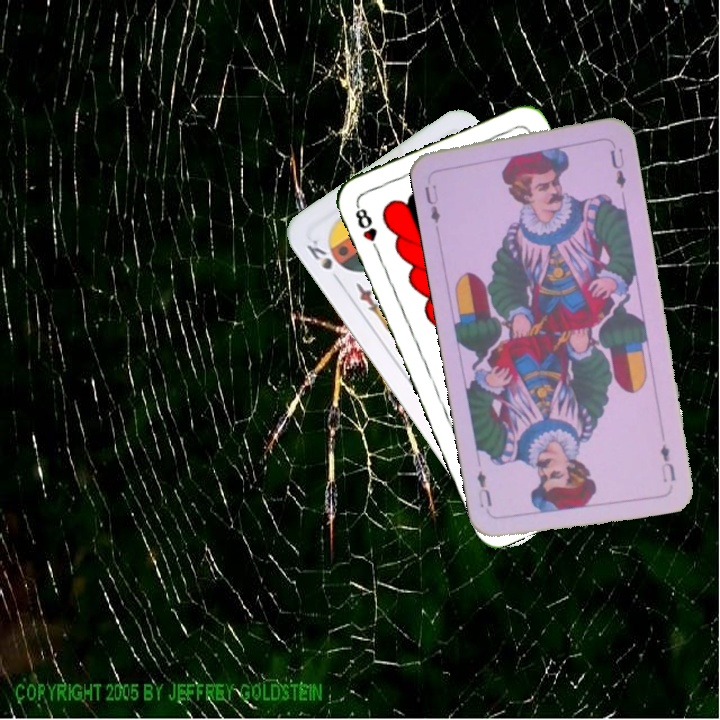EU: (420, 180, 443, 226), (656, 440, 678, 485)
H8: (351, 200, 383, 257)
SK: (302, 235, 344, 287)
